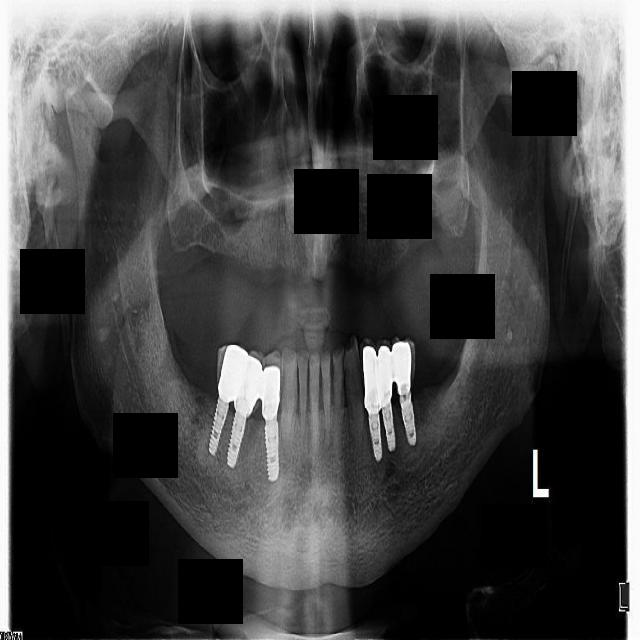55: (227, 409, 248, 470), (208, 398, 229, 455), (399, 389, 418, 445), (265, 421, 279, 480), (367, 412, 383, 461), (381, 401, 396, 450)
Zimmer Implant: (231, 348, 268, 420), (210, 340, 247, 405), (258, 349, 285, 419), (389, 336, 417, 392), (358, 341, 379, 413), (374, 340, 393, 407)
